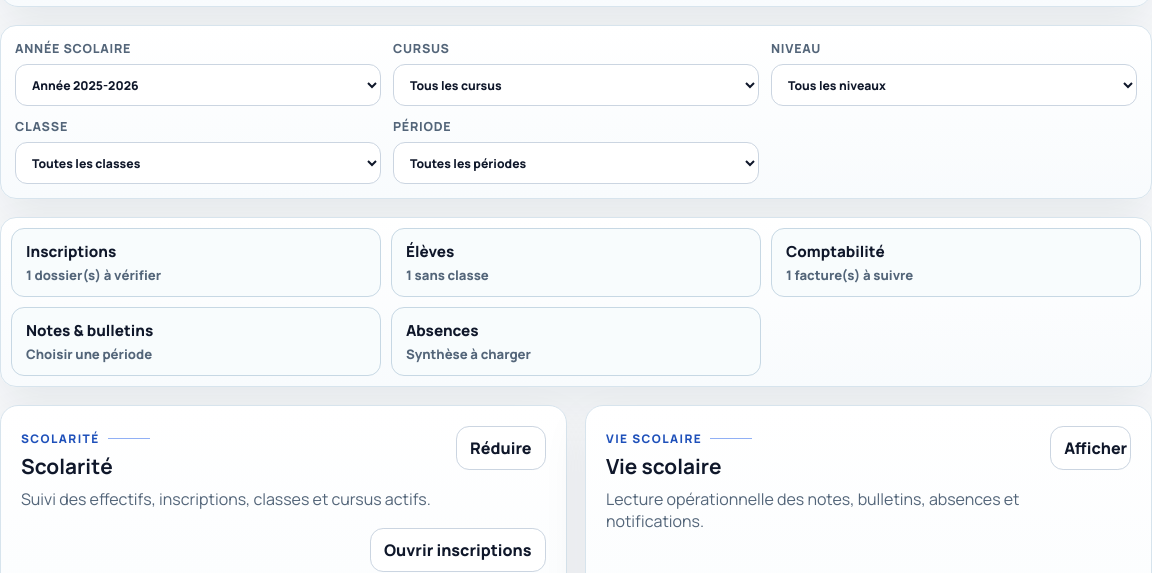
Scenario: PilotageScreen › réduit les domaines secondaires sur mobile sans perdre leur contenu
This screenshot has width=1152, height=573.
Click the button "Afficher" at x=1090, y=448, box [1050, 426, 1131, 470]
(page scrolled)
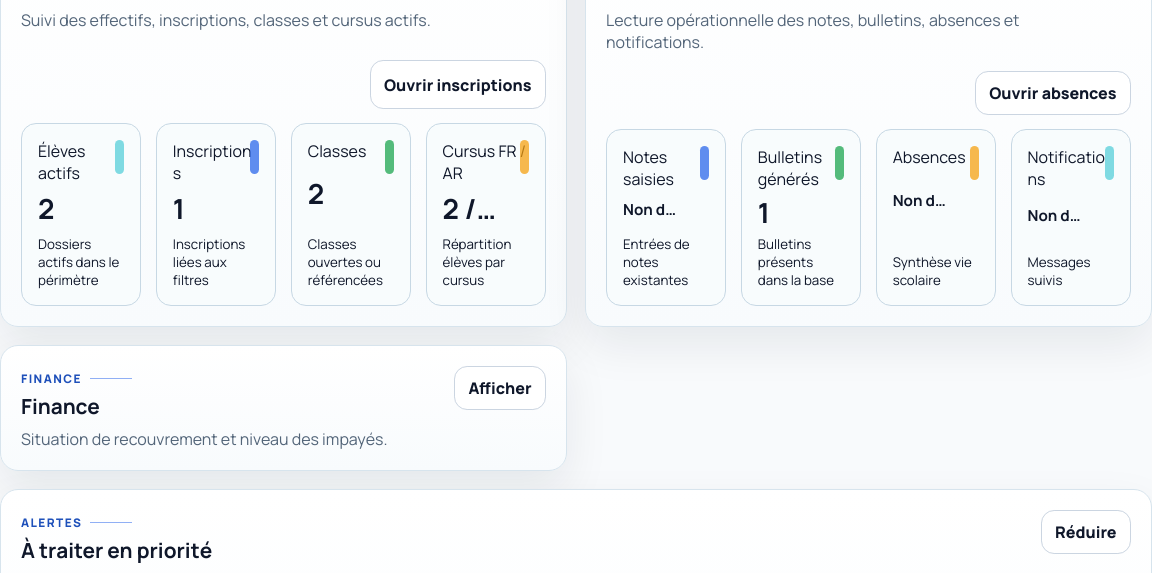
Expected: the element named "Notes saisies : Non disponible" is shown, [606, 128, 726, 306]
